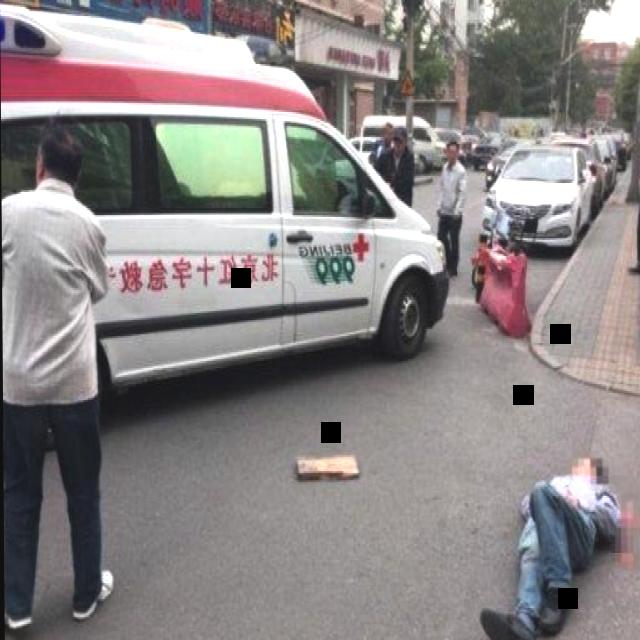Fall-Detected: (464, 441, 639, 640)
